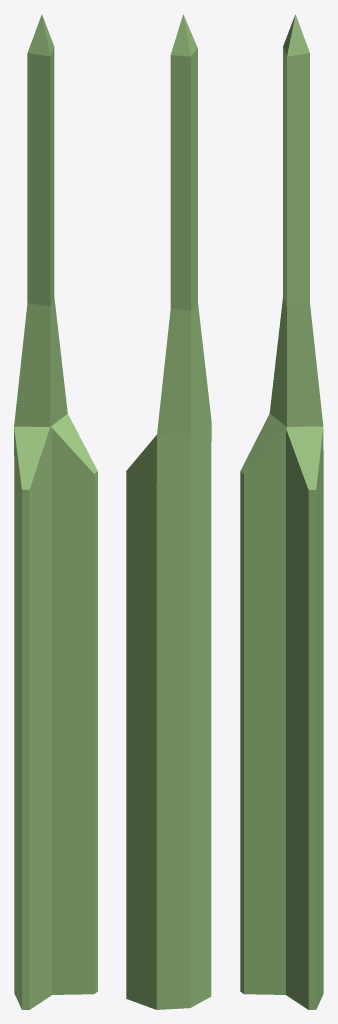
File: stm_env_VFT_Stem-001.fbx
3 views of the same model, side by side, from view 1: azimuth 30°, elevation 25°; view 2: azimuth 210°, elevation 25°; view 3: azimuth 330°, elevation 25° (orthographic).
Parts seen in each view (by area): view 1: stm_env_VFT_Stem_001; view 2: stm_env_VFT_Stem_001; view 3: stm_env_VFT_Stem_001.
Boxes of the visible parts, x1,y1,x2,y2 form: stm_env_VFT_Stem_001: (14,14,97,1009); stm_env_VFT_Stem_001: (126,14,211,1009); stm_env_VFT_Stem_001: (240,14,323,1009).
Size of the model in its own units: 60 by 735 by 37.02.
